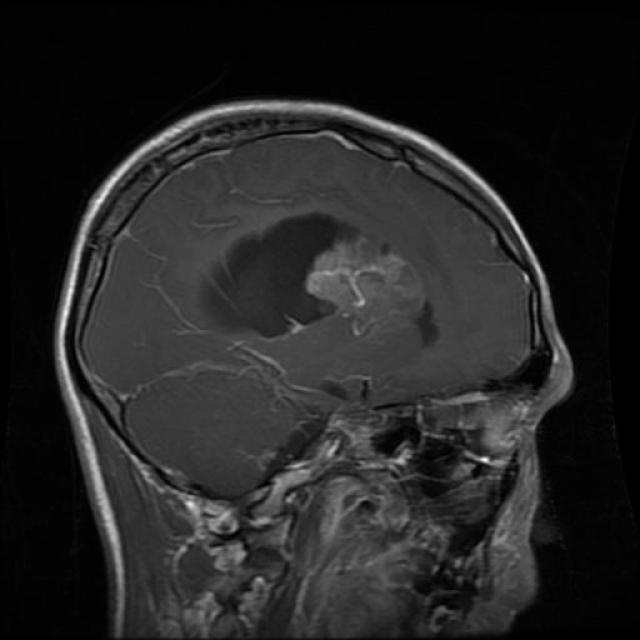glioma: (207, 212, 433, 332)
